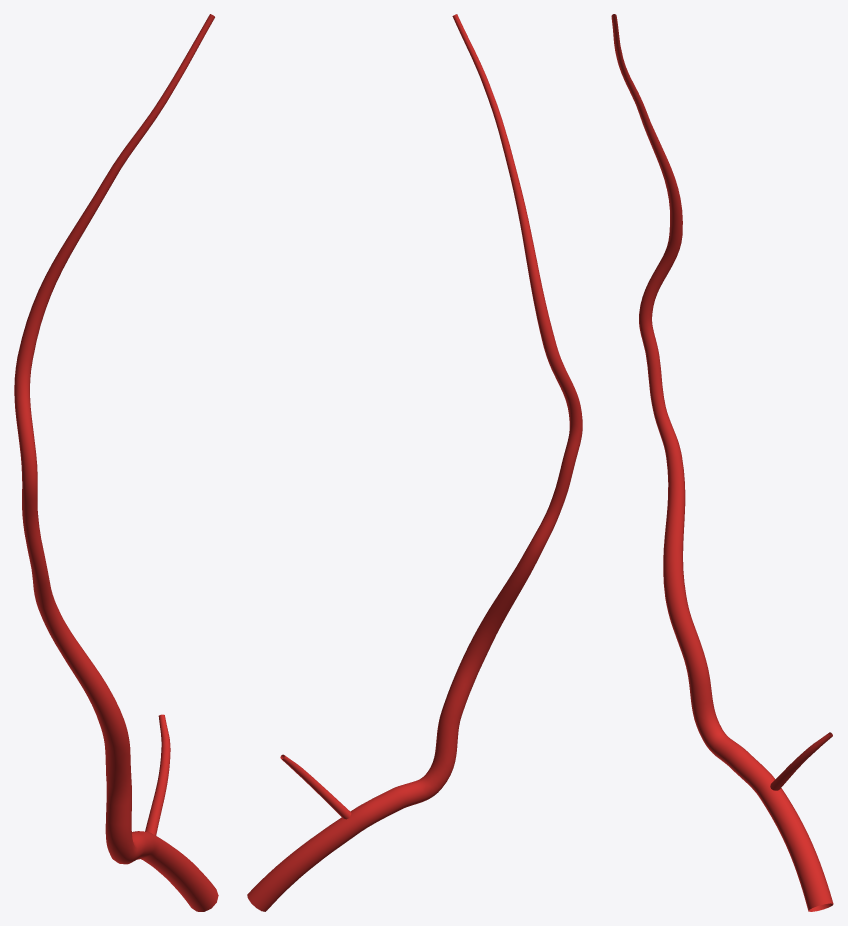
File: circulatorio-angular-vein-l.glb
3 views of the same model, side by side, from view 1: azimuth 30°, elevation 25°; view 2: azimuth 150°, elevation 25°; view 3: azimuth 270°, elevation 25° (orthographic). The views are drawn at different scales.
Visible parts, largest first — view 1: Angular vein.l; view 2: Angular vein.l; view 3: Angular vein.l.
Boxes of the visible parts, left/top/right/bottom form: Angular vein.l: left=14, top=14, right=218, bottom=911; Angular vein.l: left=247, top=14, right=582, bottom=911; Angular vein.l: left=611, top=14, right=833, bottom=911.
Size of the model in its own units: 0.0218 by 0.0713 by 0.0168.
